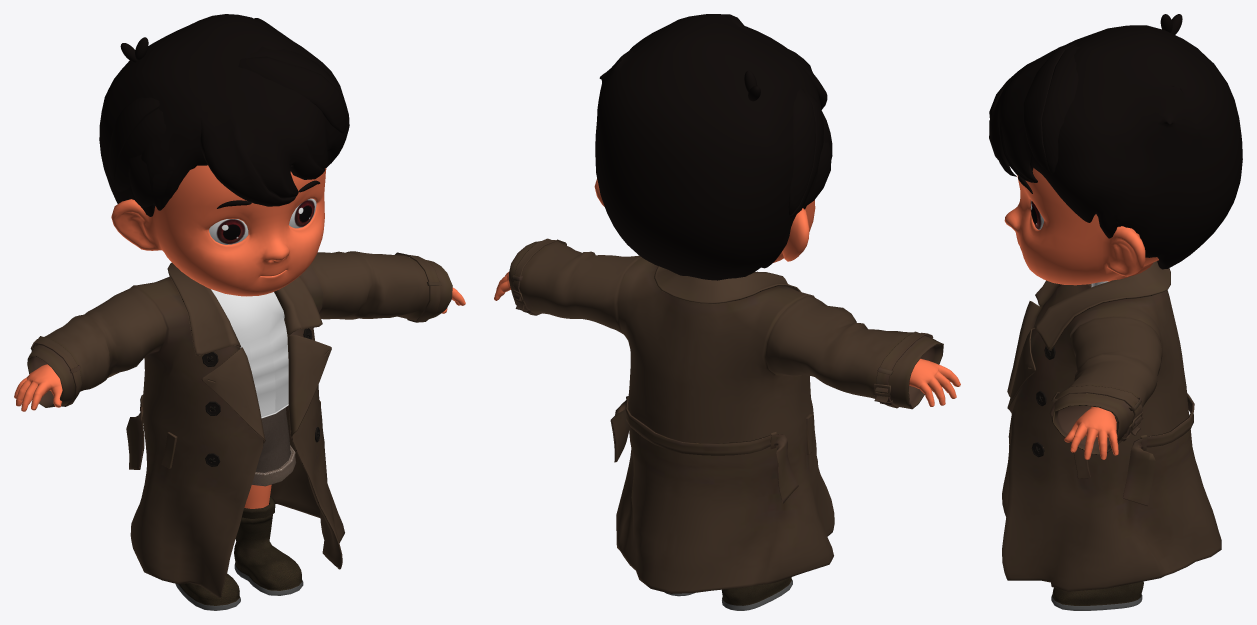
Rendered from people.fbx.
3 views of the same model, side by side, from view 1: azimuth 30°, elevation 25°; view 2: azimuth 150°, elevation 25°; view 3: azimuth 270°, elevation 25° (orthographic). The views are drawn at different scales.
Visible parts, largest first — view 1: waitao, toufa, tou, yifu, xie, kuzi, shou, zuoyan; view 2: waitao, toufa, shou, xie, tou; view 3: waitao, toufa, tou, xie, shou.
Boxes of the visible parts, x1,y1,x2,y2 form: waitao: (27,251,452,598); toufa: (99,14,349,216); tou: (111,165,326,296); yifu: (211,289,288,418); xie: (175,496,303,610); kuzi: (252,407,295,486); shou: (14,287,465,411); zuoyan: (209,219,248,244); waitao: (509,238,943,593); toufa: (595,14,832,280); shou: (494,272,960,406); xie: (665,577,792,610); tou: (594,178,815,262); waitao: (1002,261,1221,591); toufa: (989,14,1242,269); tou: (1004,168,1158,285); xie: (1051,581,1143,610); shou: (1064,281,1118,459).
Size of the model in its own units: 28.64 by 34.12 by 14.16.
7 materials, 4 textured.
